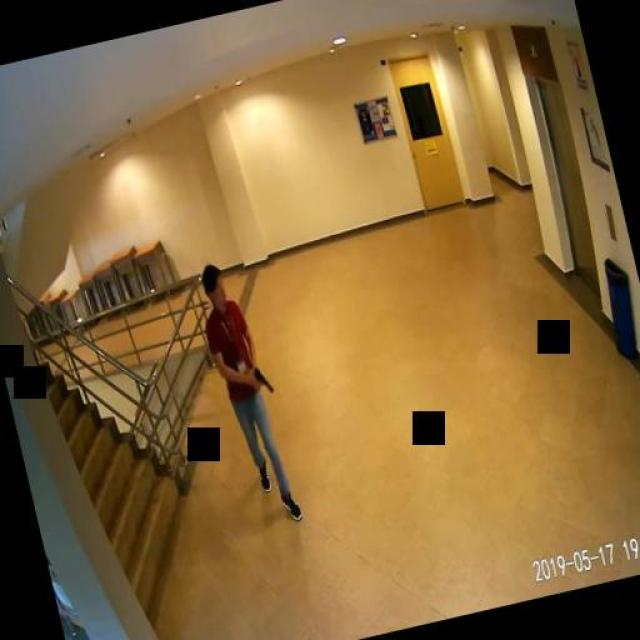gun: (248, 364, 272, 395)
